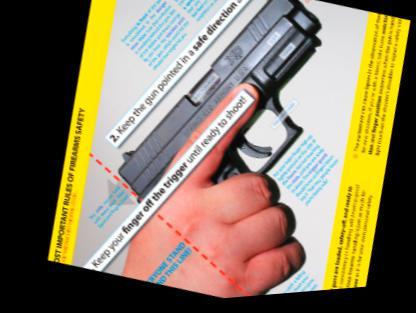pistol: (79, 0, 366, 258)
